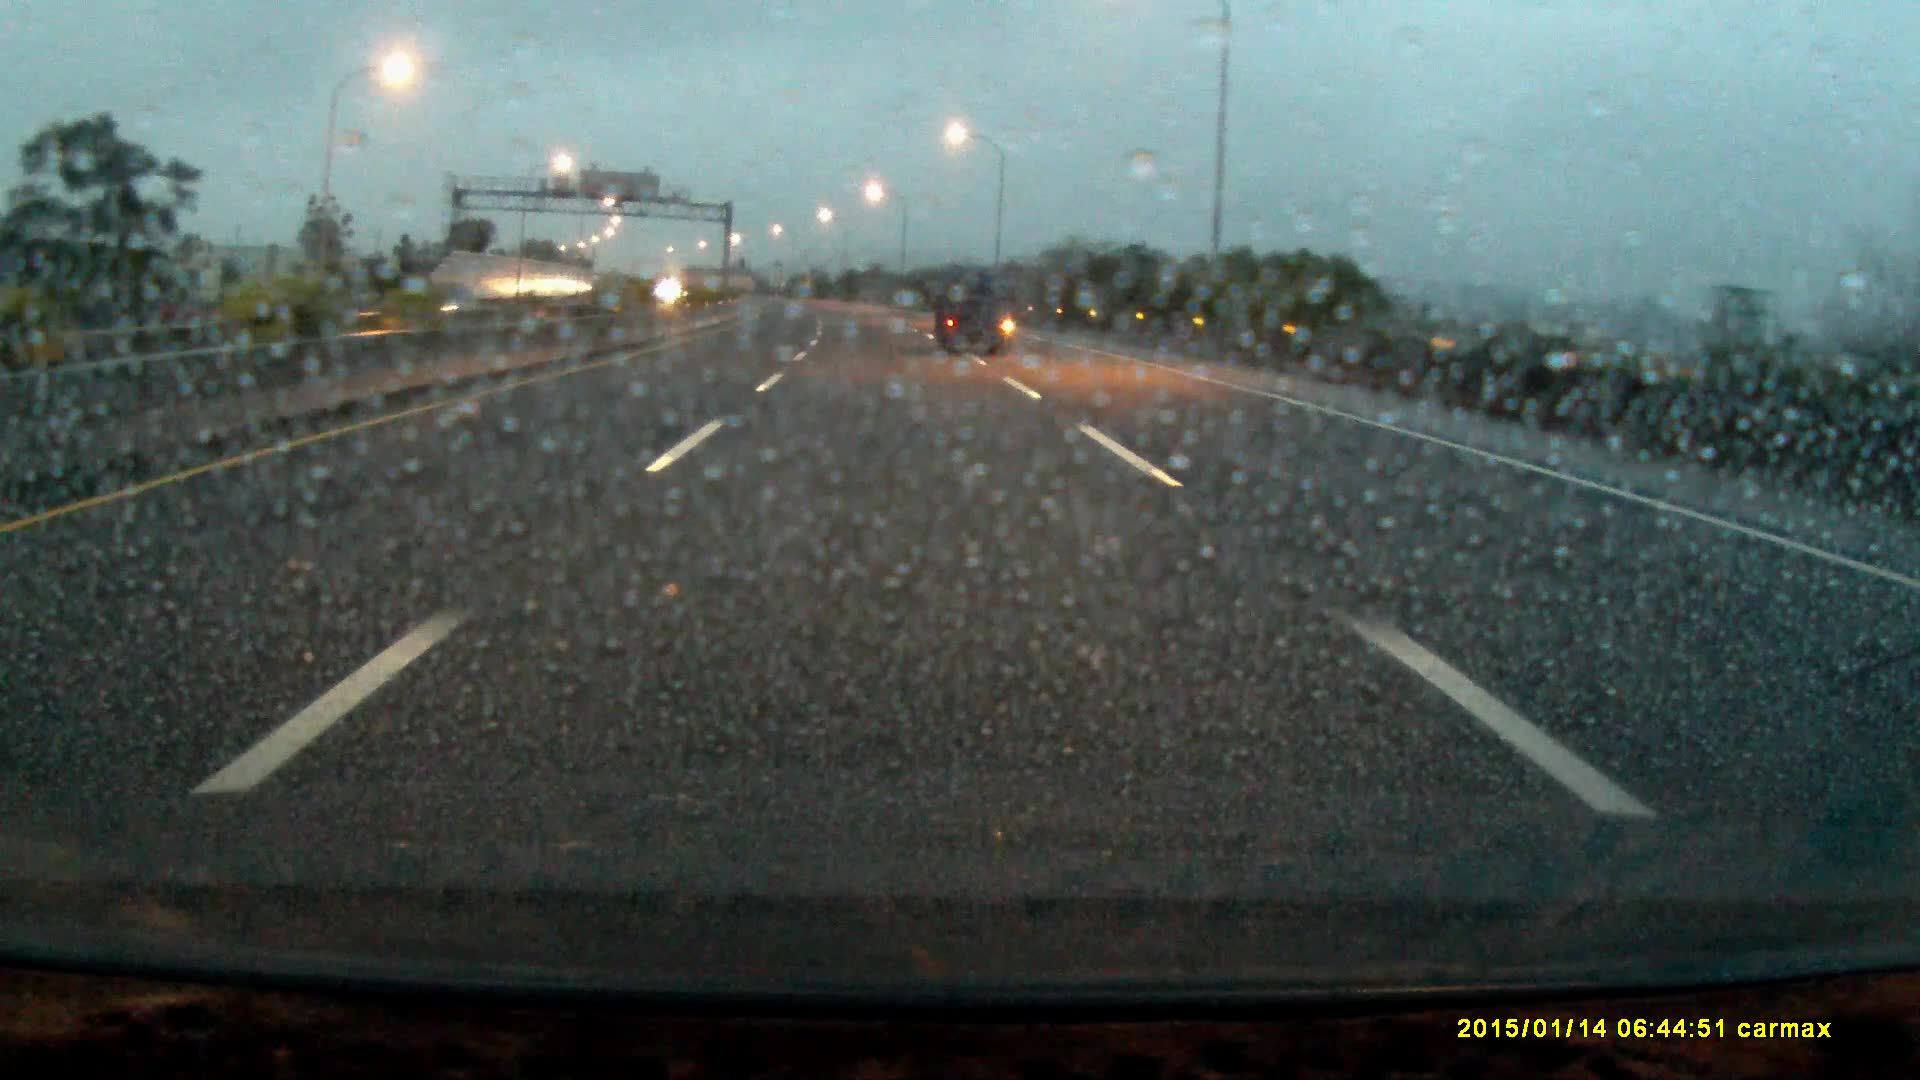vehicle: (934, 272, 1017, 357)
